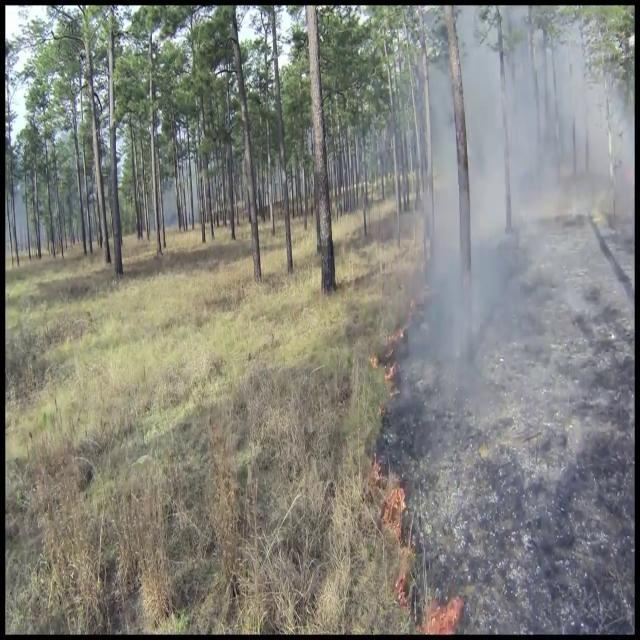Smoke: (393, 10, 633, 484)
